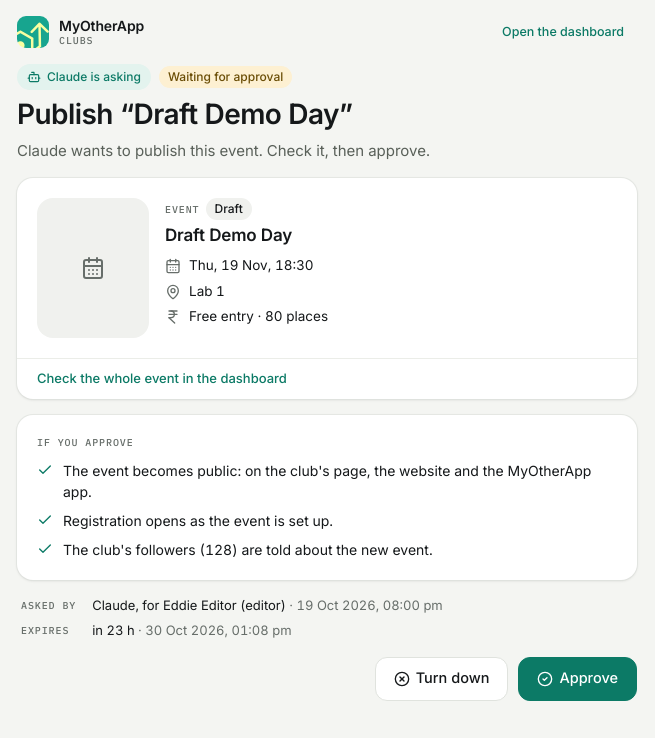
Test case: when deciding is refused › says AI connections are off and takes the buttons away (503 MCP_DISABLED)
This screenshot has width=655, height=738.
Click the button "Approve".
click(578, 679)  # box x1=518 y1=657 x2=637 y2=701
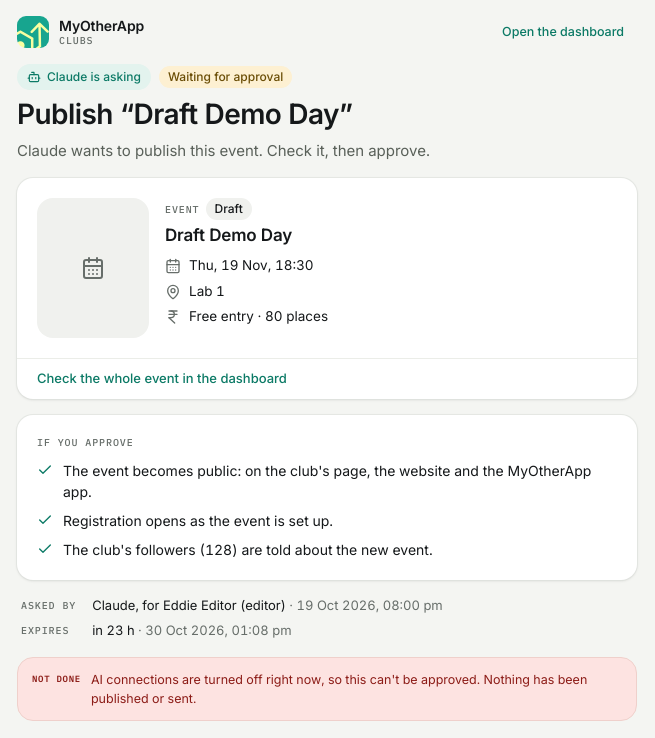
Expected: the message shows "AI connections are turned off right now, so this can't be approved.", x1=91 y1=672 x2=587 y2=706
